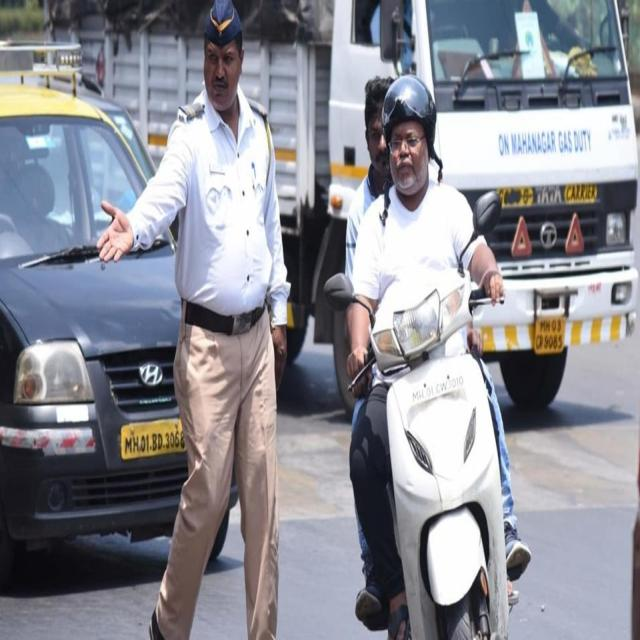Truck: (47, 0, 640, 405)
car: (0, 60, 254, 571)
motorcycle: (322, 205, 514, 640)
